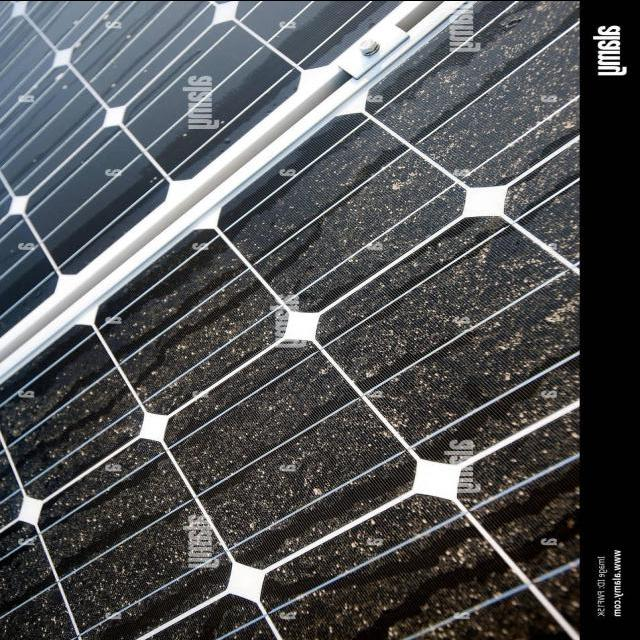soiled: (2, 6, 578, 638)
